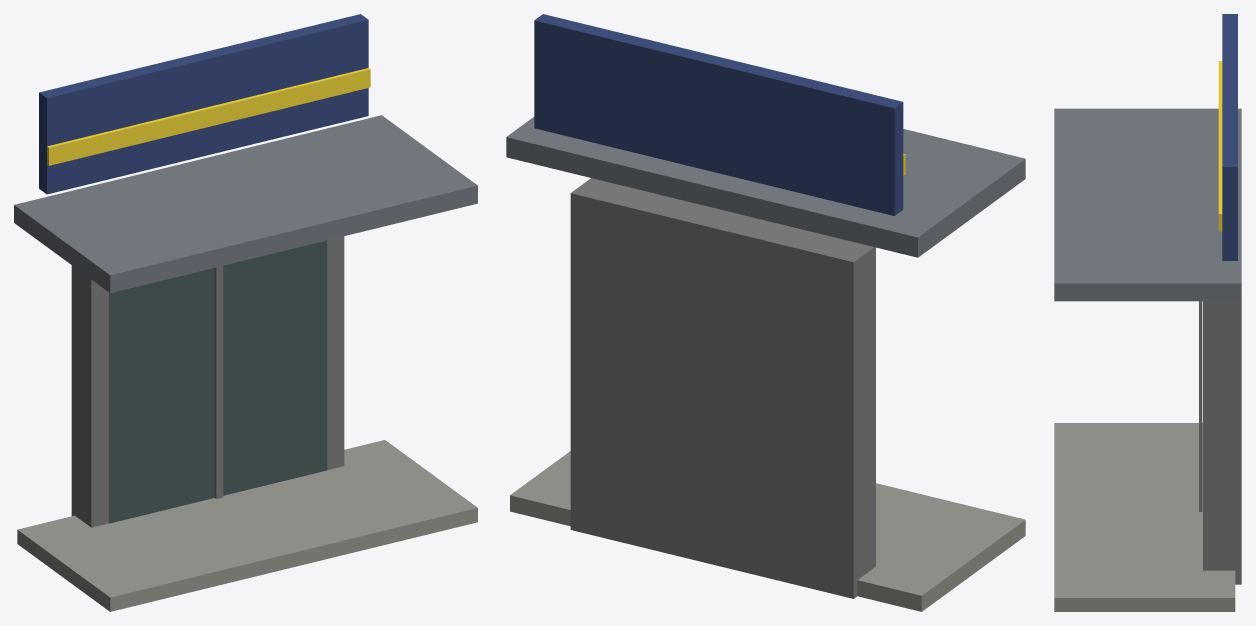
File: entrance.fbx
The picture shows the model from 3 angles, left to right: view 1: azimuth 30°, elevation 25°; view 2: azimuth 150°, elevation 25°; view 3: azimuth 270°, elevation 25°; orthographic projection. The views are drawn at different scales.
Visible parts, largest first — view 1: a1037/0/entrance; view 2: a1037/0/entrance; view 3: a1037/0/entrance.
Part boxes in pixels (<box>): a1037/0/entrance: <box>14,14,477,611</box>; a1037/0/entrance: <box>506,14,1025,611</box>; a1037/0/entrance: <box>1054,14,1241,611</box>.
Size of the model in its own units: 3.2 by 3.7 by 1.45.
